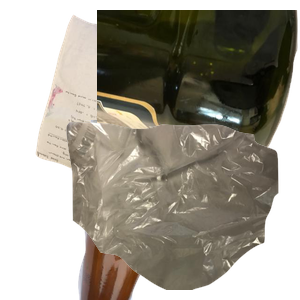glass: (60, 120, 300, 300)
paper: (33, 12, 214, 192)
plastic: (97, 10, 300, 165)
trash: (64, 120, 300, 300)
